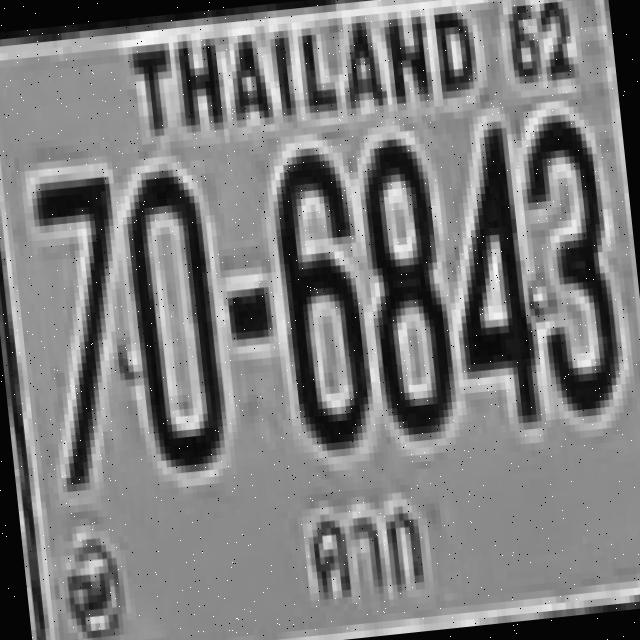0: (116, 160, 226, 469)
3: (514, 108, 618, 410)
4: (436, 117, 536, 425)
6: (268, 144, 372, 446)
7: (30, 170, 135, 485), (29, 170, 132, 458), (30, 169, 125, 387)
8: (354, 129, 454, 430)
Tak: (290, 484, 428, 594)
